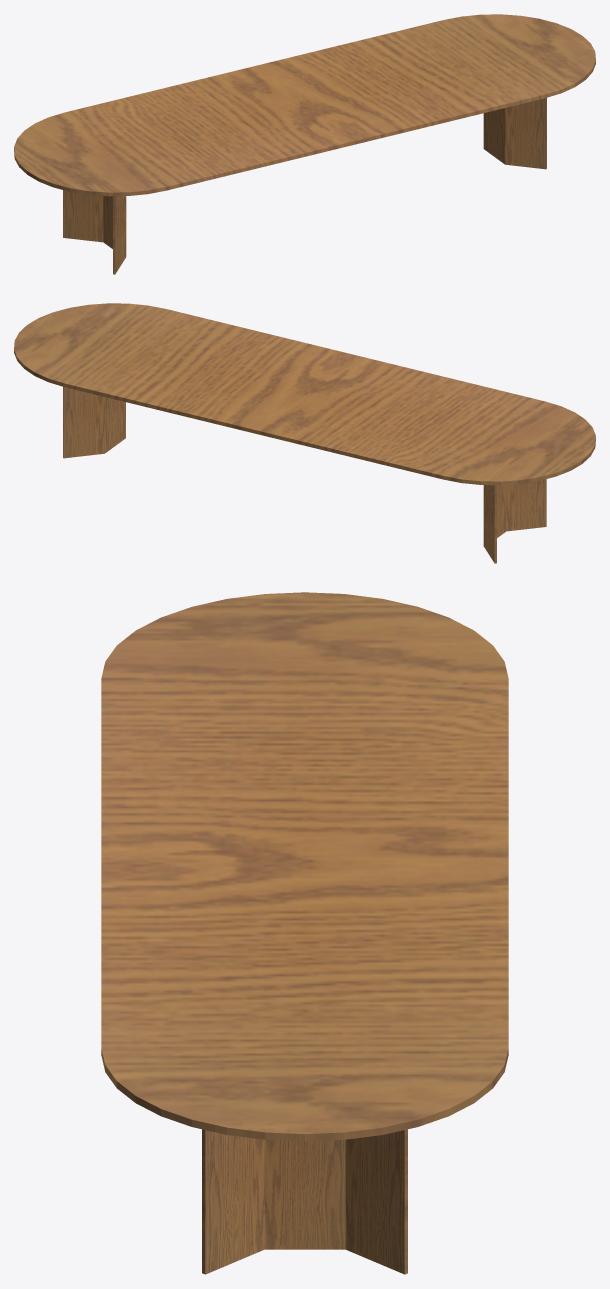
Rendered from boardroom table.fbx.
3 renders of one model, top to bottom at view 1: azimuth 30°, elevation 25°; view 2: azimuth 150°, elevation 25°; view 3: azimuth 270°, elevation 25°, orthographic. The views are drawn at different scales.
Visible parts, largest first — view 1: boardroom table; view 2: boardroom table; view 3: boardroom table.
Boxes of the visible parts, x1,y1,x2,y2 form: boardroom table: (14,14,595,274); boardroom table: (14,303,595,563); boardroom table: (101,592,508,1274).
Bounding box in the file's own units: 2188 × 376 × 695.
